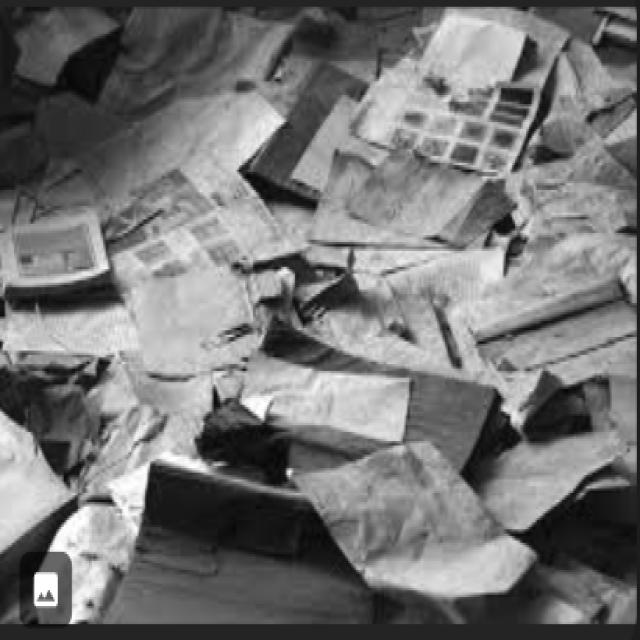KertasBekas: (0, 4, 637, 622)
